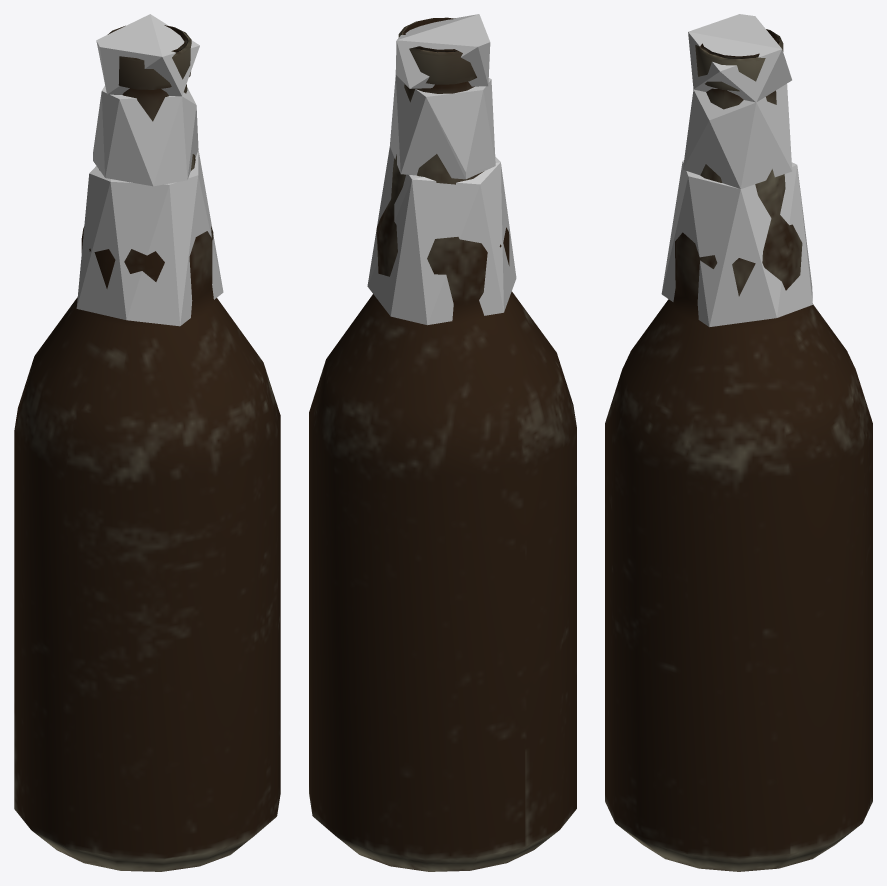
Rendered from SM_Bottle_01.fbx.
The picture shows the model from 3 angles, left to right: view 1: azimuth 30°, elevation 25°; view 2: azimuth 150°, elevation 25°; view 3: azimuth 270°, elevation 25°; orthographic projection.
Visible parts, largest first — view 1: SM_Bottle_01, SM_Bottle_01_ConvexHulls; view 2: SM_Bottle_01, SM_Bottle_01_ConvexHulls; view 3: SM_Bottle_01, SM_Bottle_01_ConvexHulls.
Part boxes in pixels (x1,y1,x2,y2): SM_Bottle_01: [14, 25, 280, 871]; SM_Bottle_01_ConvexHulls: [76, 14, 223, 326]; SM_Bottle_01: [309, 17, 576, 871]; SM_Bottle_01_ConvexHulls: [367, 14, 516, 325]; SM_Bottle_01: [605, 29, 872, 871]; SM_Bottle_01_ConvexHulls: [661, 14, 812, 326].
Bounding box in the file's own units: 10.78 × 10.78 × 35.12.
2 materials, 1 textured.
